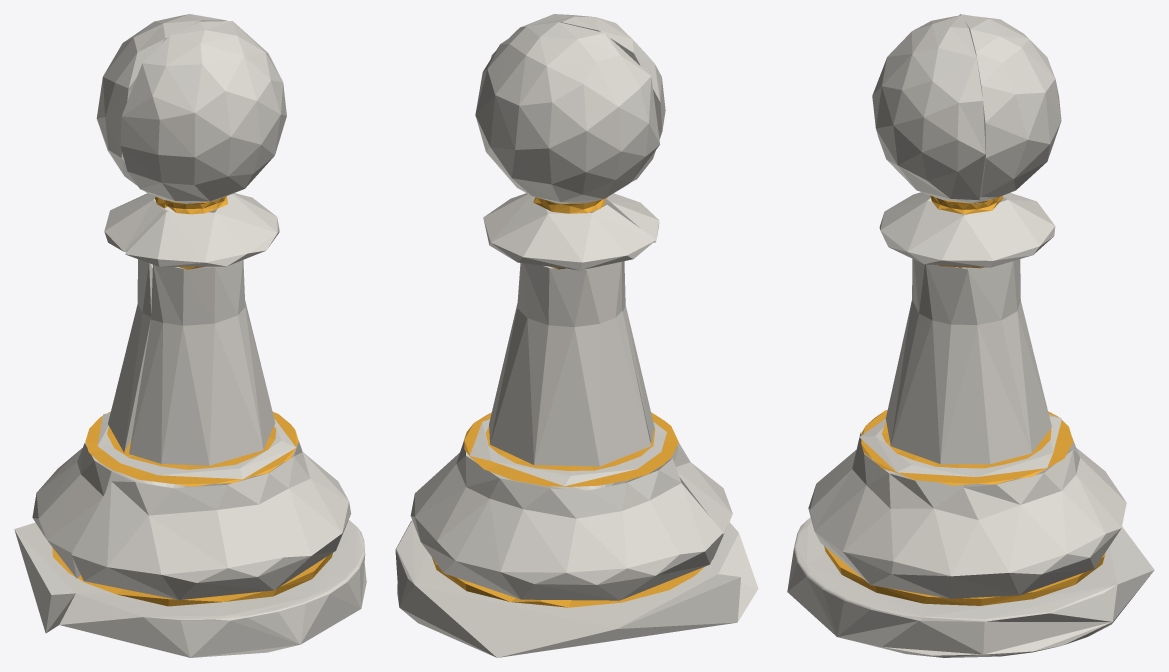
Rendered from pawn.glb.
The picture shows the model from 3 angles, left to right: view 1: azimuth 30°, elevation 25°; view 2: azimuth 150°, elevation 25°; view 3: azimuth 270°, elevation 25°; orthographic projection.
Parts seen in each view (by area): view 1: body, accent; view 2: body, accent; view 3: body, accent.
Boxes of the visible parts, x1,y1,x2,y2 form: body: (14, 14, 366, 657); accent: (52, 196, 332, 606); body: (395, 14, 758, 657); accent: (432, 197, 703, 607); body: (787, 14, 1154, 657); accent: (824, 195, 1105, 605).
Bounding box in the file's own units: 0.3119 × 0.5372 × 0.3172.
